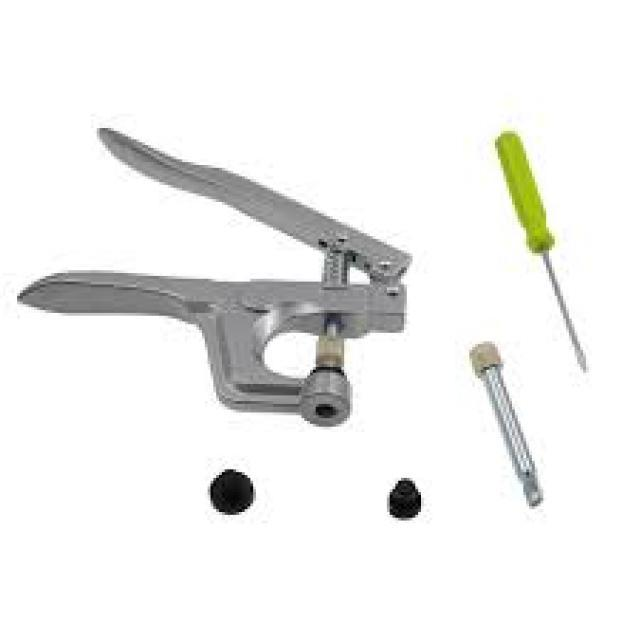screwdriver: (476, 115, 616, 382)
